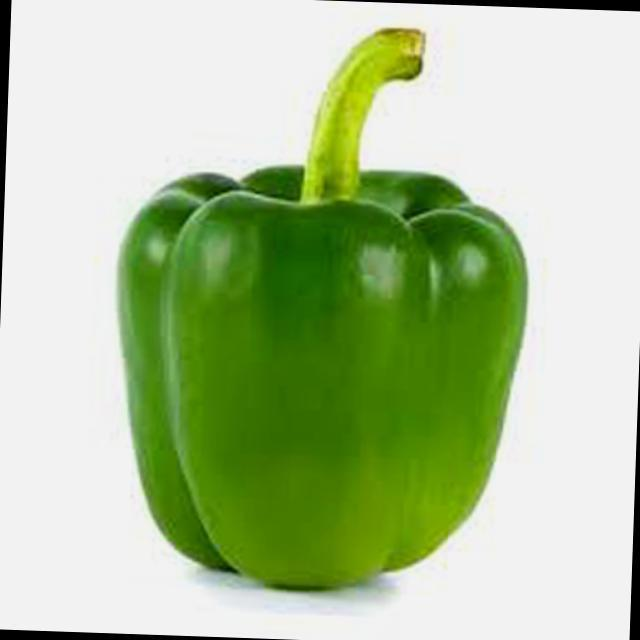Capsicum: (116, 156, 530, 590)
